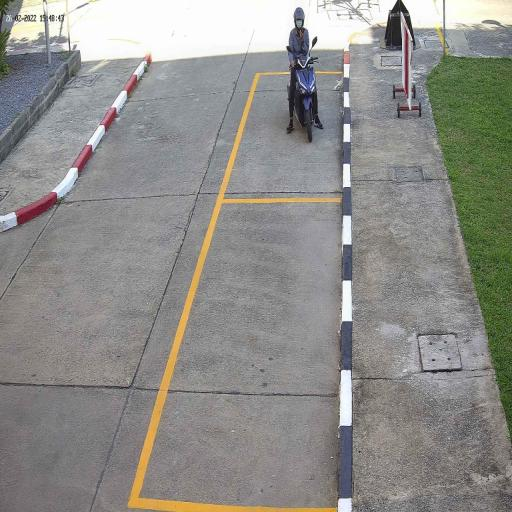motorcycle: (294, 53, 318, 144)
